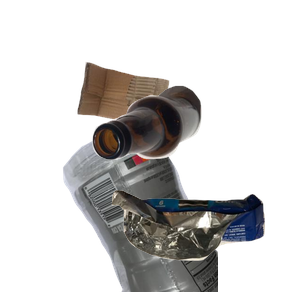cardboard: (75, 59, 237, 176)
glass: (90, 83, 300, 235)
plastic: (60, 120, 300, 300)
trash: (109, 187, 300, 300)
